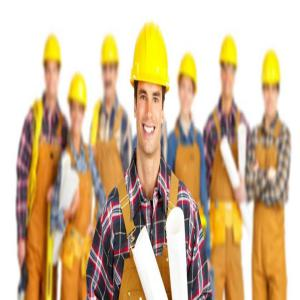yellow: (133, 22, 170, 152), (177, 55, 199, 115), (102, 33, 121, 99), (263, 49, 281, 113), (220, 35, 238, 97), (44, 38, 62, 96), (70, 74, 88, 131)
